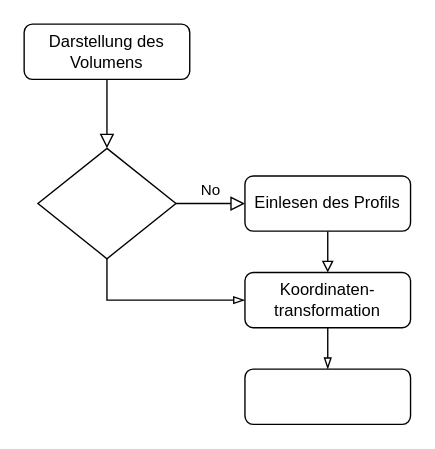
Some shapes in this 435 by 449 pixel diagram are drawn without their labels. Each missing label, with the centre of its shape:
"Gitternetz erstellen" goes at point (327, 396).
"Typ des Volumens" goes at point (106, 203).
